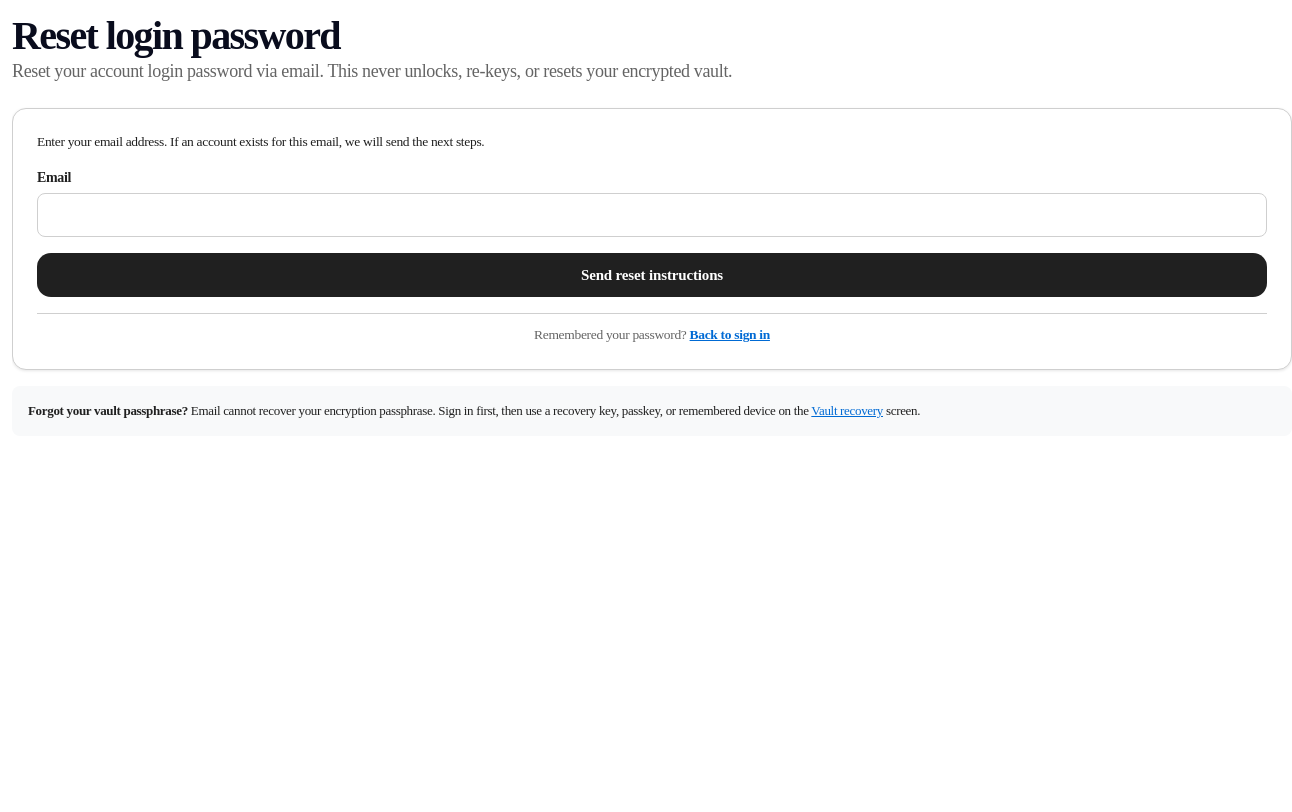
Test case: ForgotPasswordForm states and problem-code mapping (ADR 0006 §9.2) › maps rate_limited (429) to localized UI copy without leaking raw problem title/detail
Type "user@example.com" into the field labelled "Email" at (652, 215), box [37,193,1267,237]
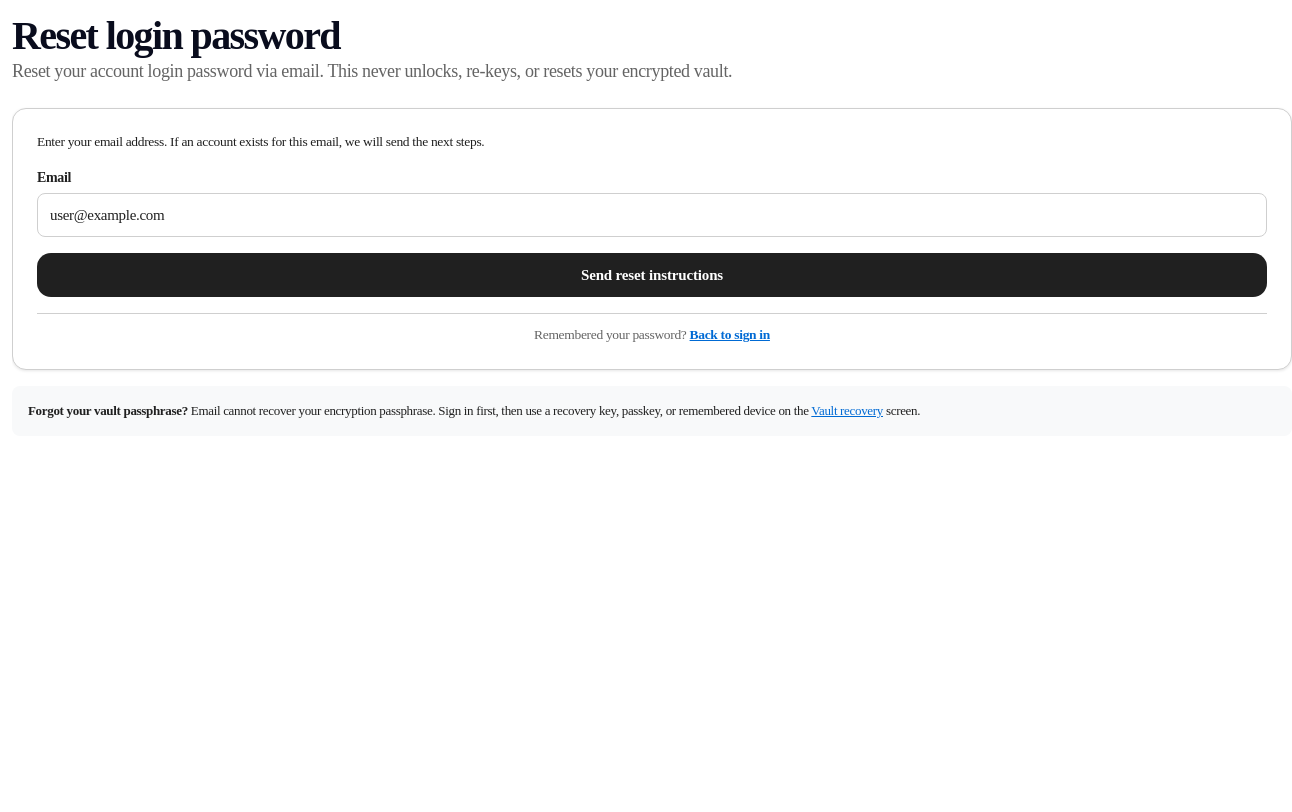
Submit the form labelled "email", box [12,108,1291,370]
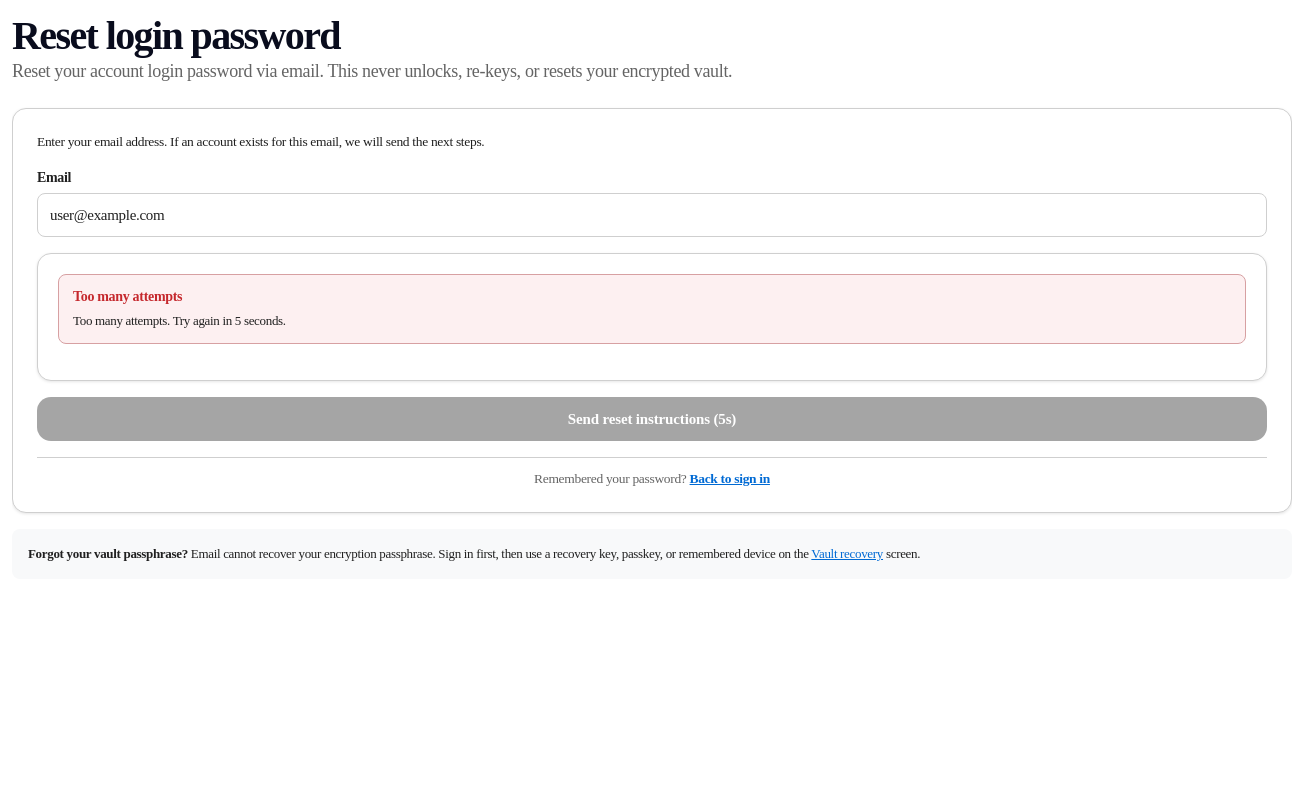
Expected: the text "Too many attempts. Try again in 5 seconds." is shown, [73,313,286,328]
